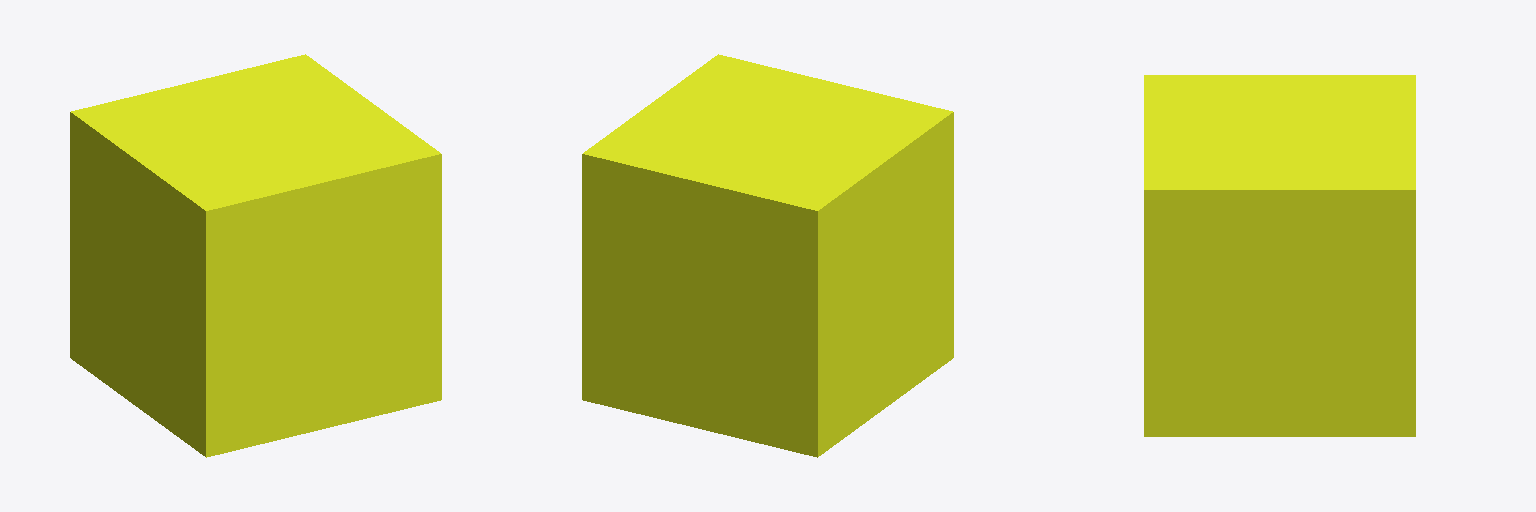
3 views of the same model, side by side, from view 1: azimuth 30°, elevation 25°; view 2: azimuth 150°, elevation 25°; view 3: azimuth 270°, elevation 25° (orthographic).
Parts seen in each view (by area): view 1: Cube; view 2: Cube; view 3: Cube.
Part boxes in pixels (x1,y1,x2,y2): Cube: (70,54,441,457); Cube: (582,54,953,457); Cube: (1144,75,1415,436).
Size of the model in its own units: 2 by 2 by 2.
Materials: 1 (1 with a texture image).